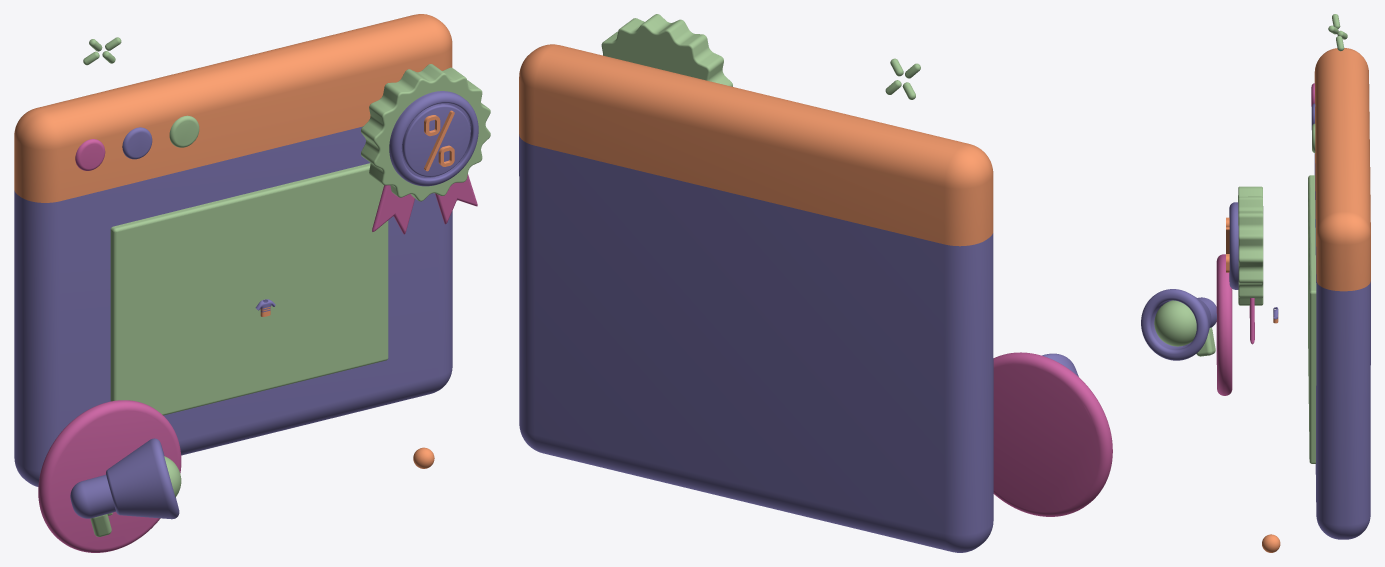
The model's file is e-commerce-promotion-3d-animated-icon-549876657904.glb.
3 views of the same model, side by side, from view 1: azimuth 30°, elevation 25°; view 2: azimuth 150°, elevation 25°; view 3: azimuth 270°, elevation 25° (orthographic). The views are drawn at different scales.
Parts seen in each view (by area): view 1: Cube.003, Cube, Cube.002, Cylinder.002, Circle, Cylinder.003, Cylinder.001, Cylinder, Plane, Curve; view 2: Cube.003, Cube.002, Cylinder.002, Circle; view 3: Cube.003, Cube.002, Circle, Cylinder.001, Cube, Cylinder.002, Sphere.001, Cylinder.003, Cylinder.020, Cube.004.
Part boxes in pixels (left/top/right/bottom): Cube.003: left=14, top=126, right=452, bottom=486; Cube: left=110, top=163, right=388, bottom=415; Cube.002: left=14, top=14, right=452, bottom=202; Cylinder.002: left=38, top=400, right=181, bottom=552; Circle: left=361, top=64, right=490, bottom=201; Cylinder.003: left=389, top=91, right=478, bottom=186; Cylinder.001: left=70, top=438, right=179, bottom=519; Cylinder: left=75, top=115, right=199, bottom=170; Plane: left=372, top=174, right=477, bottom=234; Curve: left=424, top=110, right=454, bottom=171; Cube.003: left=519, top=134, right=993, bottom=552; Cube.002: left=519, top=44, right=993, bottom=246; Cylinder.002: left=993, top=352, right=1112, bottom=516; Circle: left=601, top=14, right=732, bottom=86; Cube.003: left=1314, top=153, right=1370, bottom=539; Cube.002: left=1314, top=48, right=1370, bottom=291; Circle: left=1238, top=186, right=1263, bottom=305; Cylinder.001: left=1141, top=289, right=1216, bottom=360; Cube: left=1308, top=175, right=1316, bottom=463; Cylinder.002: left=1216, top=254, right=1232, bottom=395; Sphere.001: left=1154, top=300, right=1196, bottom=346; Cylinder.003: left=1229, top=202, right=1238, bottom=289; Cylinder.020: left=1328, top=14, right=1347, bottom=51; Cube.004: left=1196, top=327, right=1215, bottom=356.
Size of the model in its own units: 1.44 by 1.37 by 0.6916.
